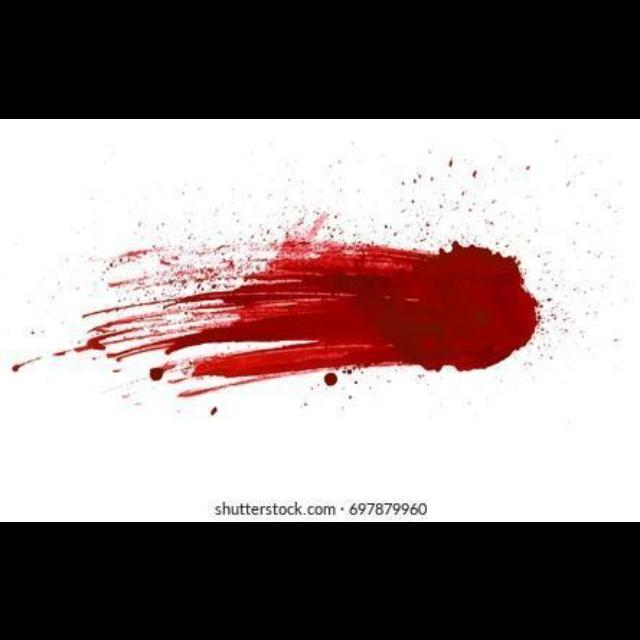blood: (6, 149, 625, 429)
